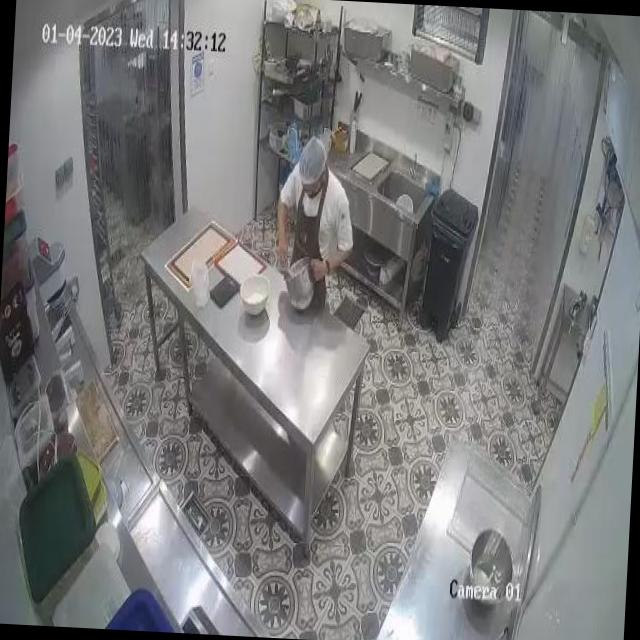hairnet: (296, 137, 325, 186)
